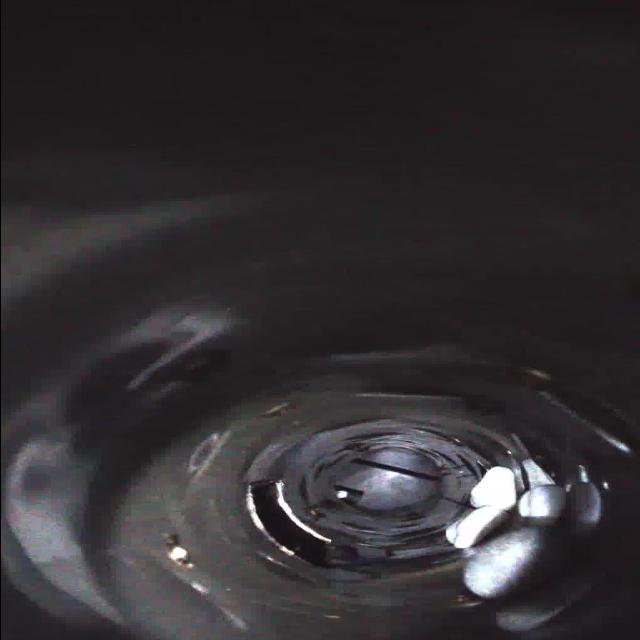crack: (389, 514, 452, 554), (398, 414, 471, 448), (332, 412, 399, 448), (442, 444, 492, 486), (338, 522, 384, 562), (300, 443, 346, 478), (442, 484, 488, 518), (292, 477, 314, 513)
hole: (232, 477, 330, 570)
